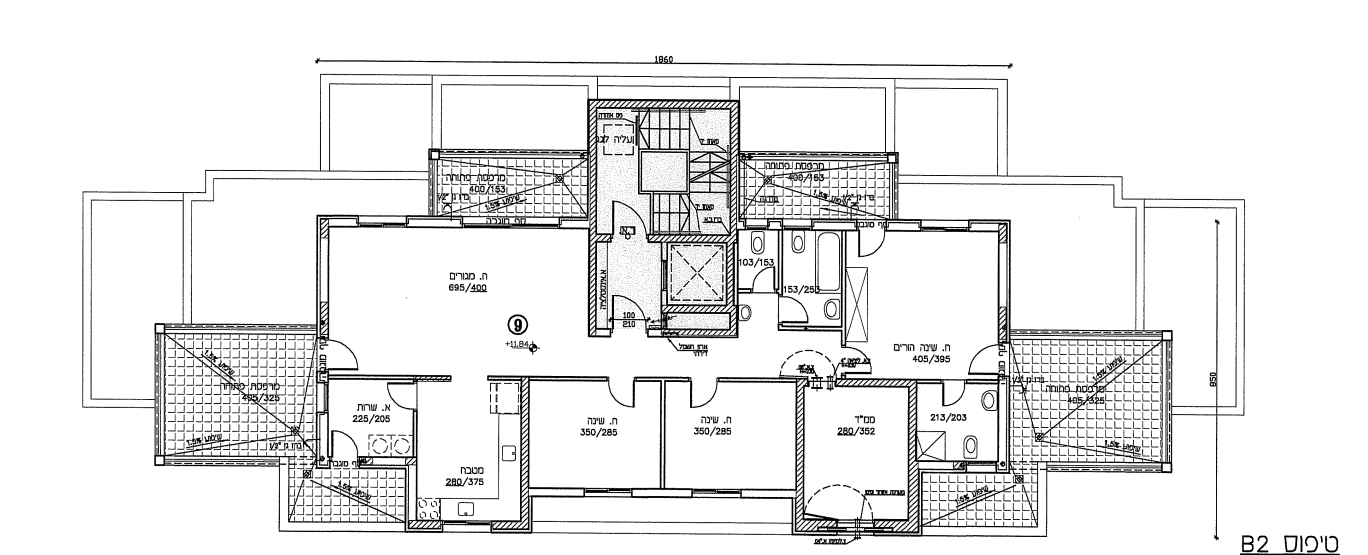door: (608, 196, 648, 230), (610, 291, 650, 325), (964, 342, 996, 377), (331, 339, 362, 373), (854, 229, 887, 258), (382, 381, 412, 411), (607, 382, 637, 412), (688, 382, 718, 412), (938, 385, 968, 415), (785, 292, 813, 324), (330, 428, 361, 454), (749, 264, 777, 286)
